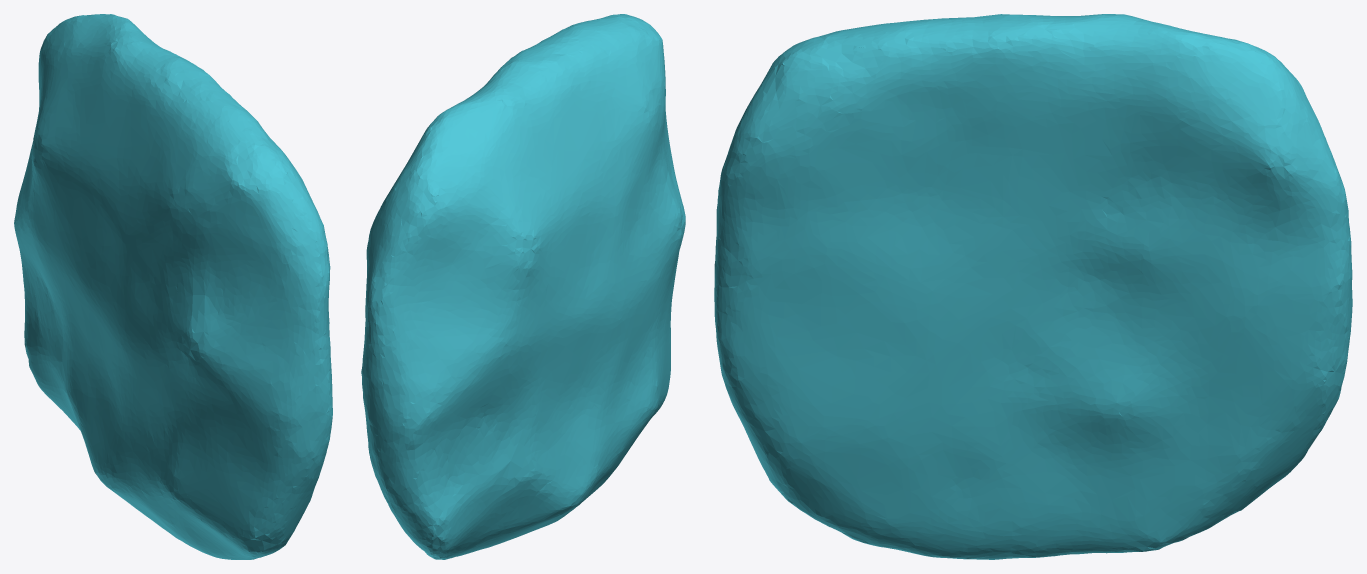
3 renders of one model, left to right at view 1: azimuth 30°, elevation 25°; view 2: azimuth 150°, elevation 25°; view 3: azimuth 270°, elevation 25°, orthographic. The views are drawn at different scales.
Parts seen in each view (by area): view 1: Renderer Node; view 2: Renderer Node; view 3: Renderer Node.
Part boxes in pixels (<box>): Renderer Node: <box>14,14,332,559</box>; Renderer Node: <box>361,14,685,559</box>; Renderer Node: <box>714,14,1352,559</box>.
Size of the model in its own units: 0.1721 by 0.6316 by 0.6789.
1 material, 1 textured.
